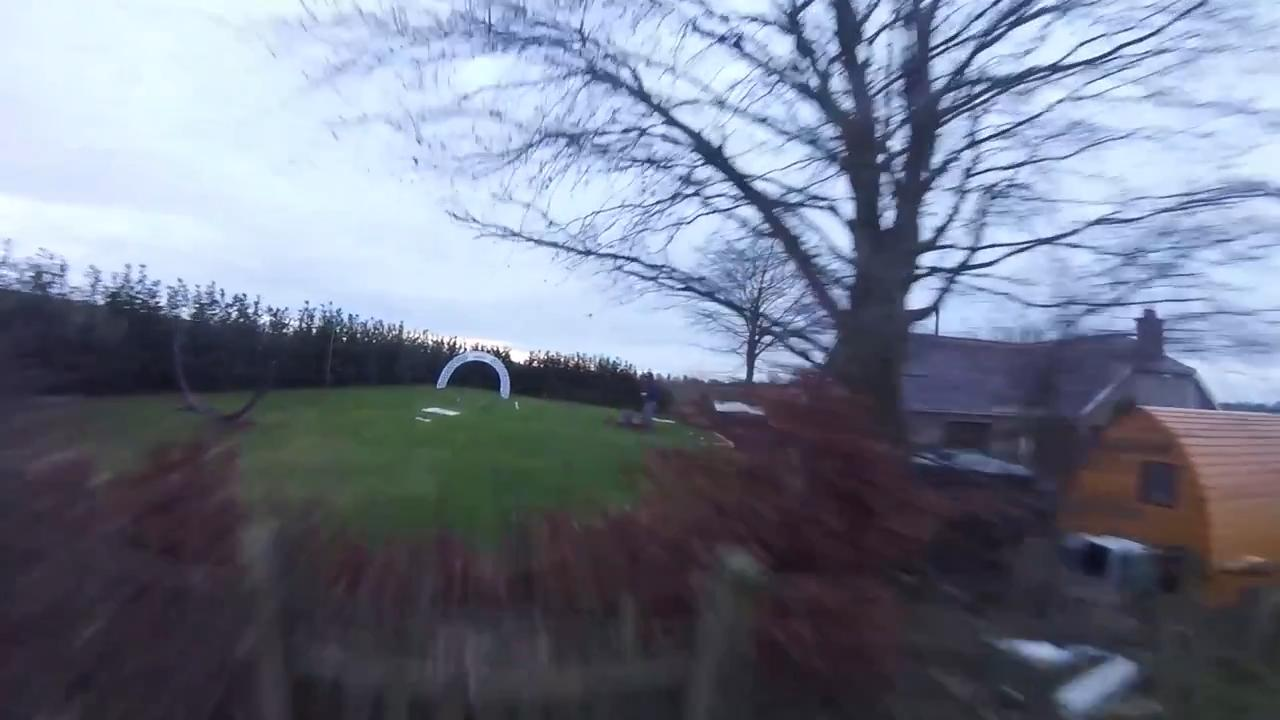gate: (435, 348, 514, 404)
